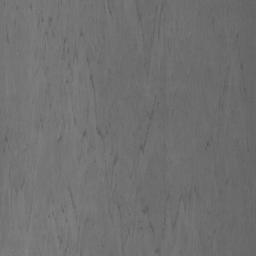Silk spot: (36, 38, 199, 256), (133, 0, 178, 162), (26, 186, 94, 256), (35, 11, 59, 75), (0, 167, 25, 208), (0, 127, 29, 152), (93, 0, 123, 24), (6, 19, 20, 44), (200, 136, 219, 152), (219, 80, 228, 112)
